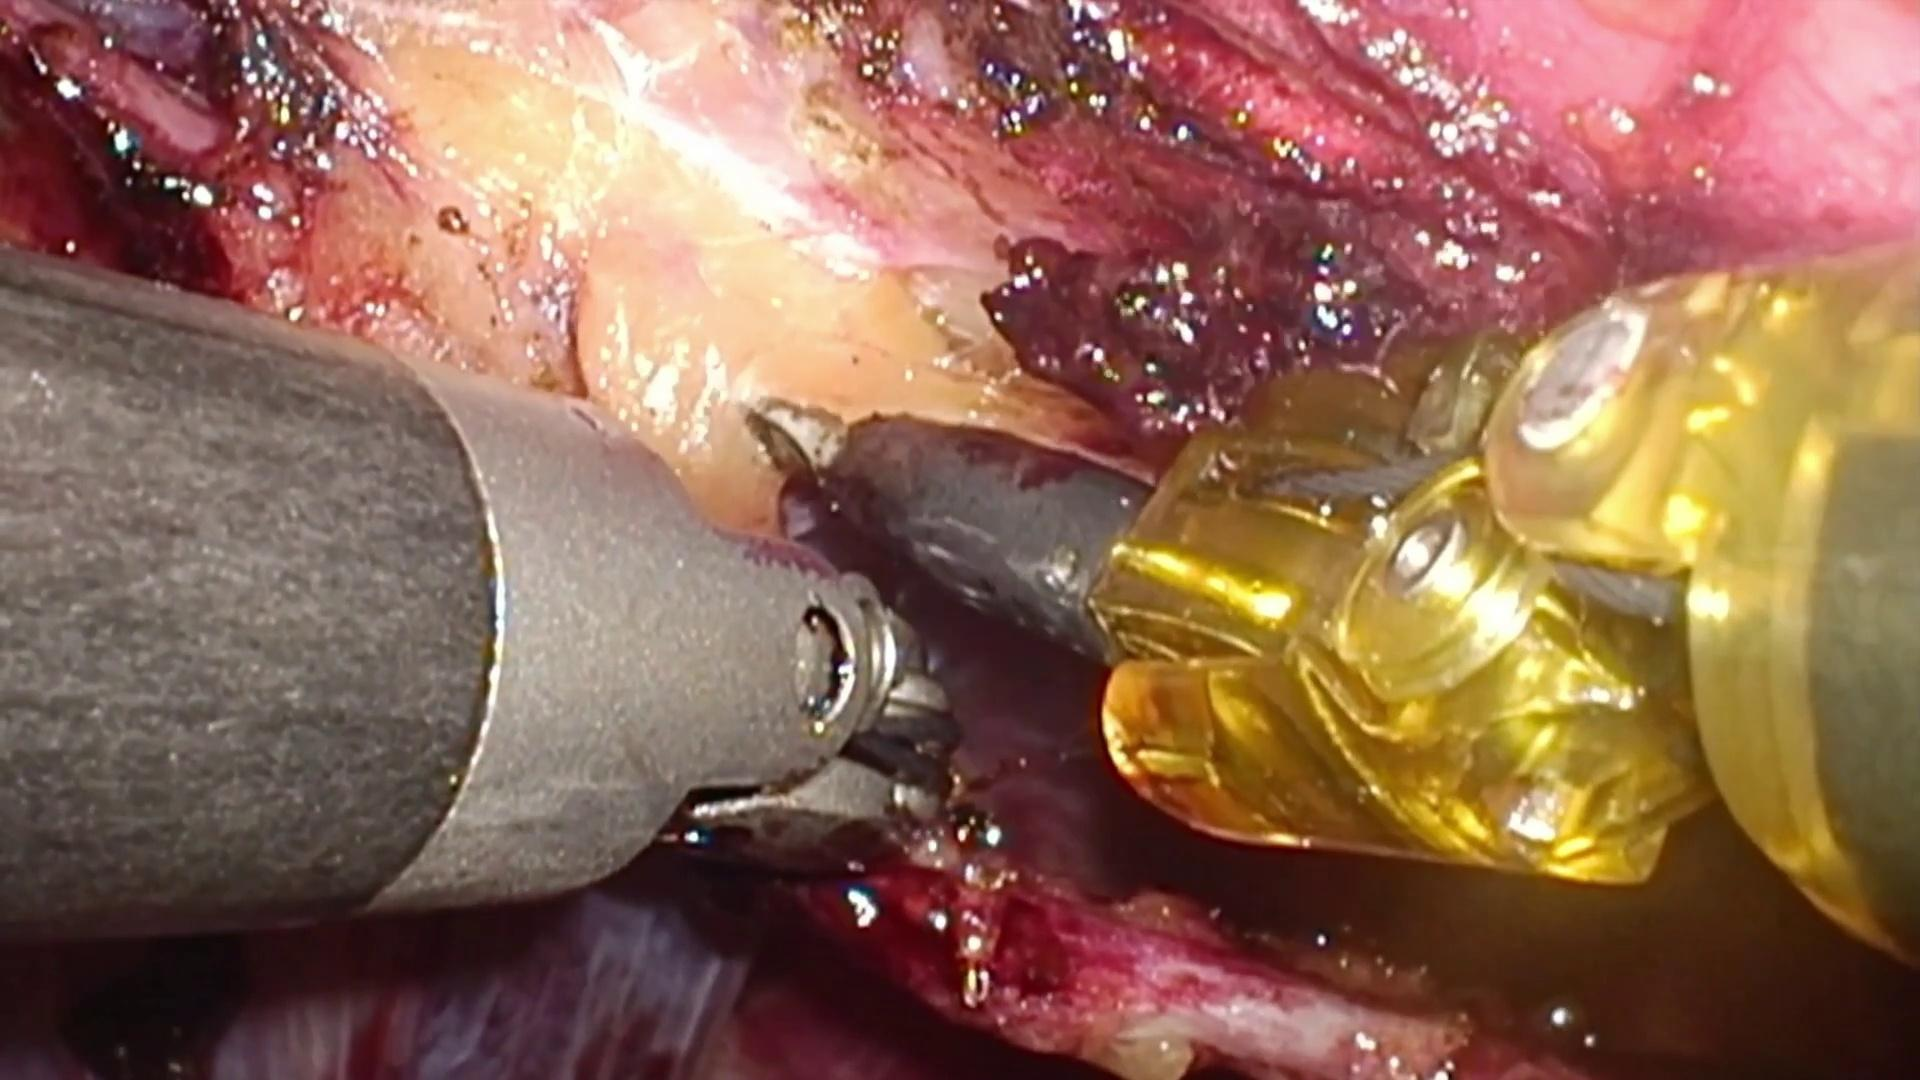Cautery_Spatula: (732, 380, 1133, 666)
Debakey: (895, 802, 984, 887)
